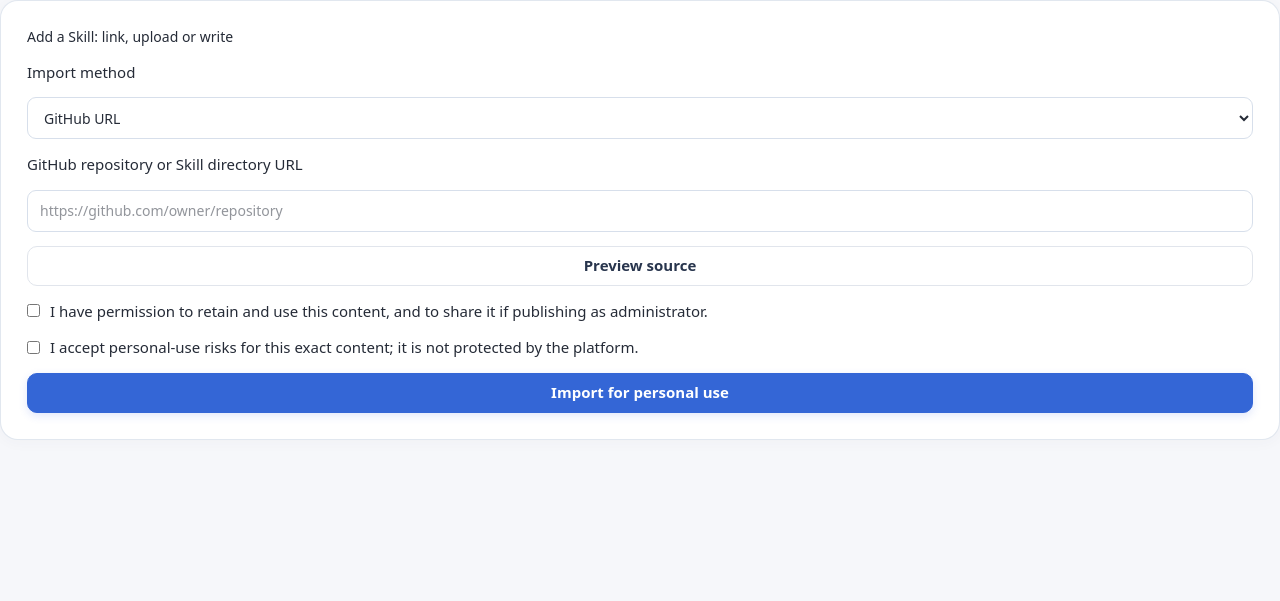
Test: requires choosing a candidate only when discovery finds several
Type "https://github.com/example/methods" into the field labelled "GitHub repository or Skill directory URL".
click(640, 211); type("https://github.com/example/methods")  # box [27,190,1253,232]
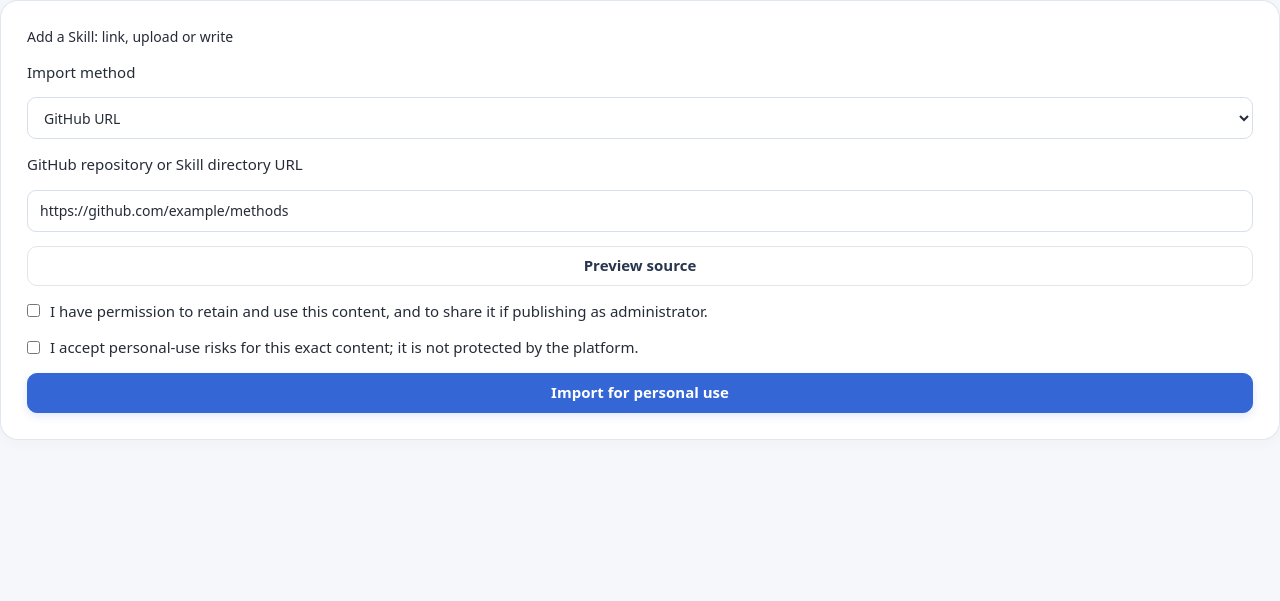
Click the button "Preview source".
click(640, 266)  # box [27,246,1253,286]
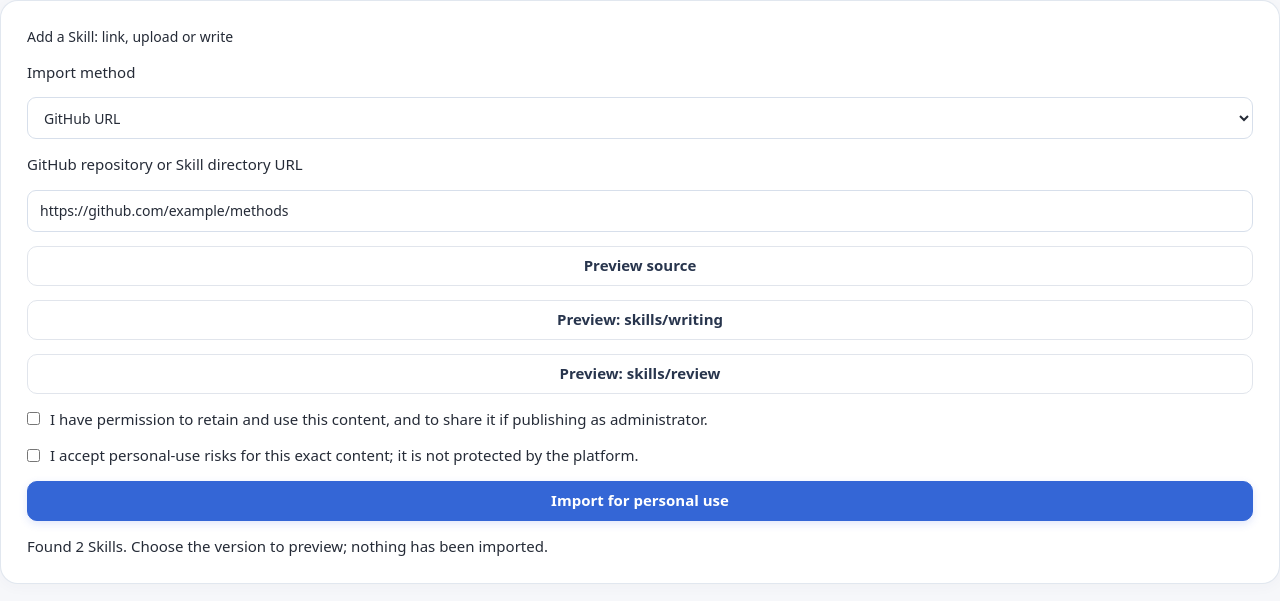
Expected: the button "Preview: skills/writing" is shown, [27,300,1253,340]
Expected: the button "Preview: skills/review" is shown, [27,354,1253,394]
